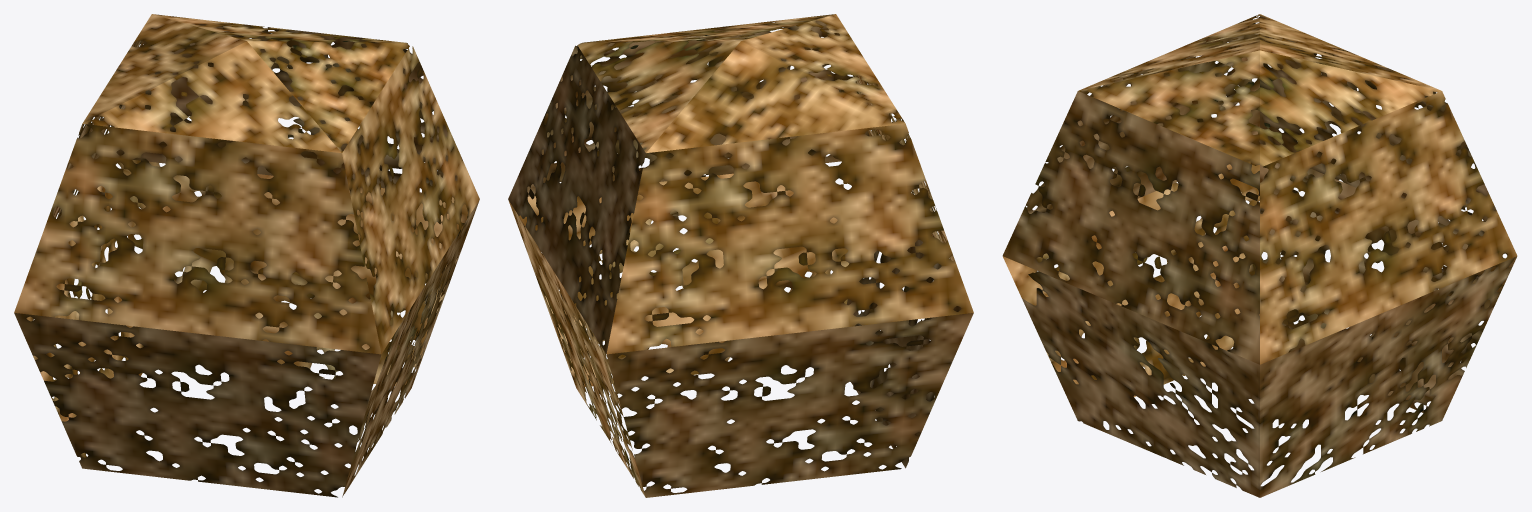
File: bush_end_autumn.fbx
3 renders of one model, left to right at view 1: azimuth 30°, elevation 25°; view 2: azimuth 150°, elevation 25°; view 3: azimuth 270°, elevation 25°, orthographic. The views are drawn at different scales.
Visible parts, largest first — view 1: bush_end_autumn; view 2: bush_end_autumn; view 3: bush_end_autumn.
Part boxes in pixels (left/top/right/bottom): bush_end_autumn: left=14, top=14, right=479, bottom=497; bush_end_autumn: left=508, top=14, right=973, bottom=497; bush_end_autumn: left=1002, top=14, right=1517, bottom=497.
Size of the model in its own units: 139 by 110 by 139.
1 material, 1 textured.
